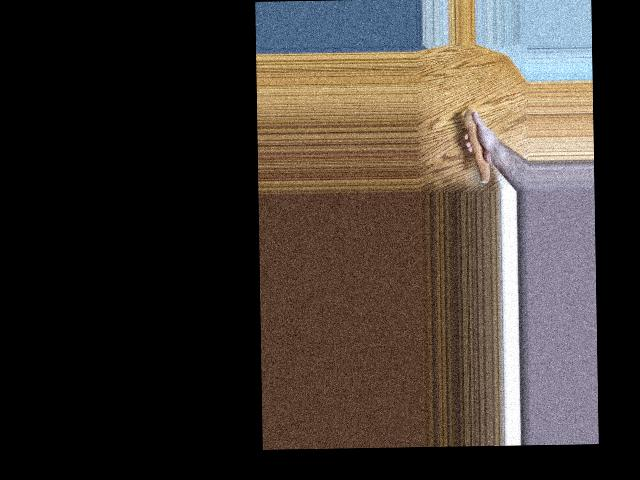sweet_potato: (463, 109, 491, 184)
